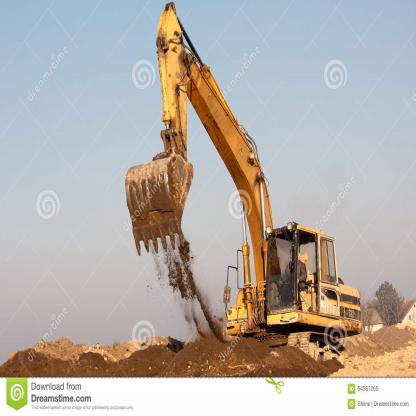excavator: (110, 3, 368, 356)
